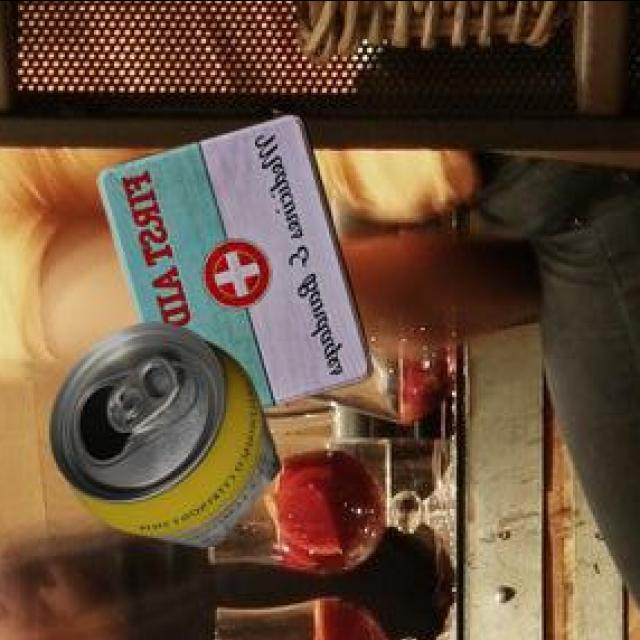logam: (97, 111, 368, 404), (46, 319, 276, 543)
